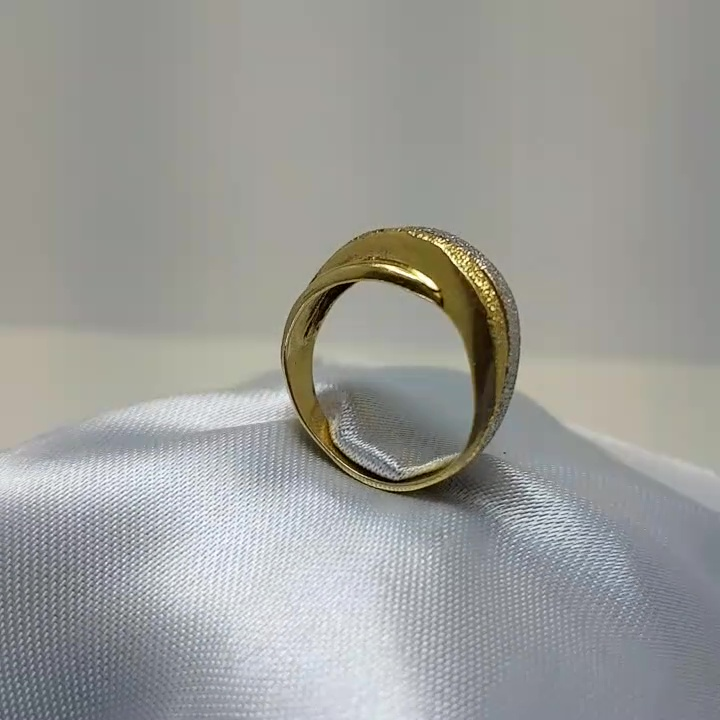Ring 5: (258, 217, 546, 511)
